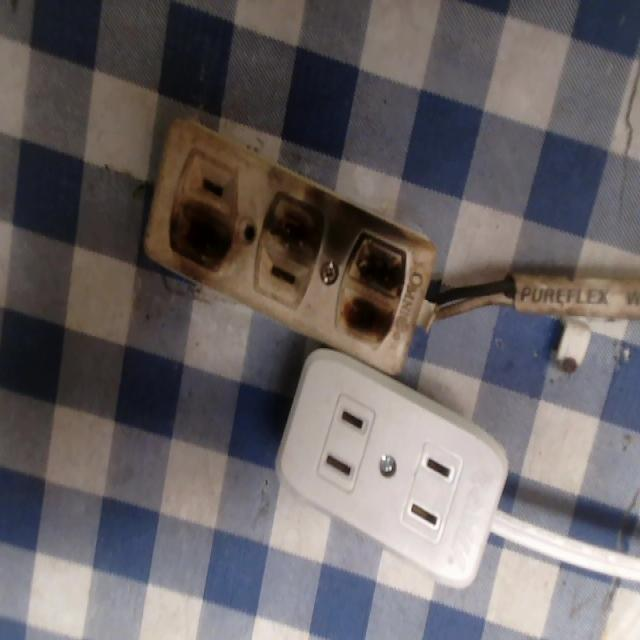-: (341, 221, 410, 359), (161, 191, 237, 284), (260, 176, 329, 272)
